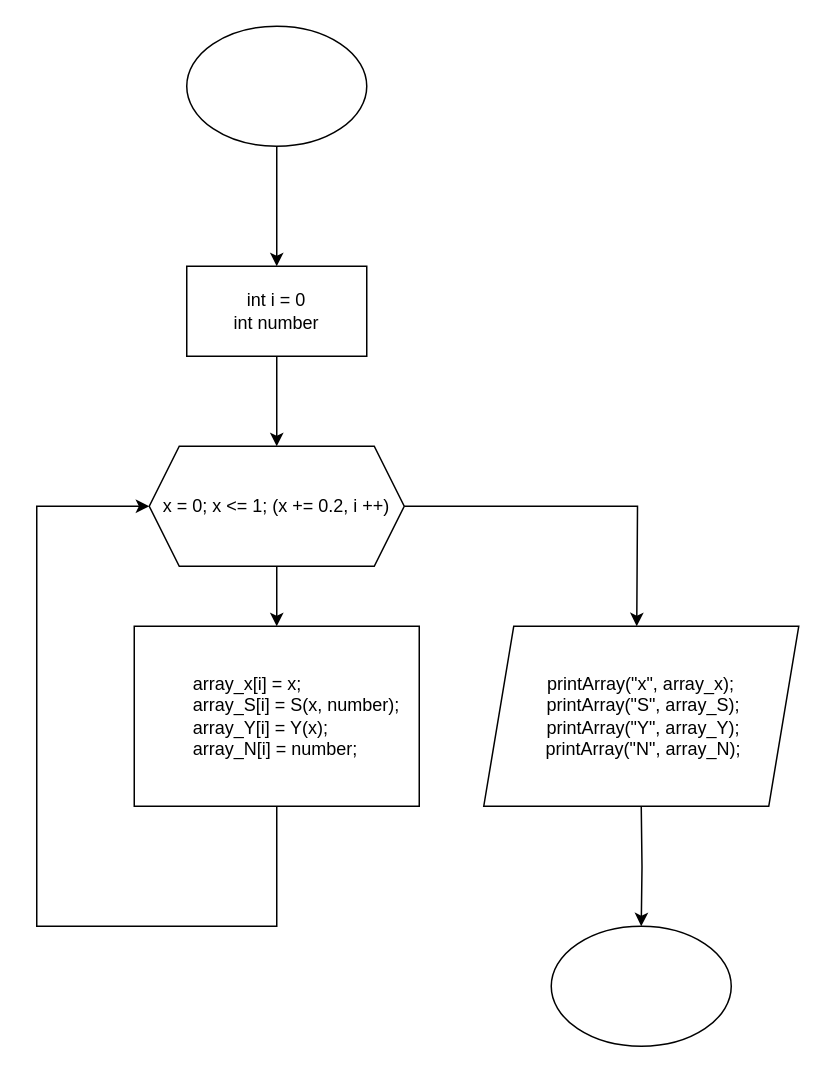
Some shapes in this 825 by 1073 pixel diagram are drawn without their labels. Each missing label, with the centre of its shape:
Конец: (x=640, y=985)
Начало: (x=276, y=85)
